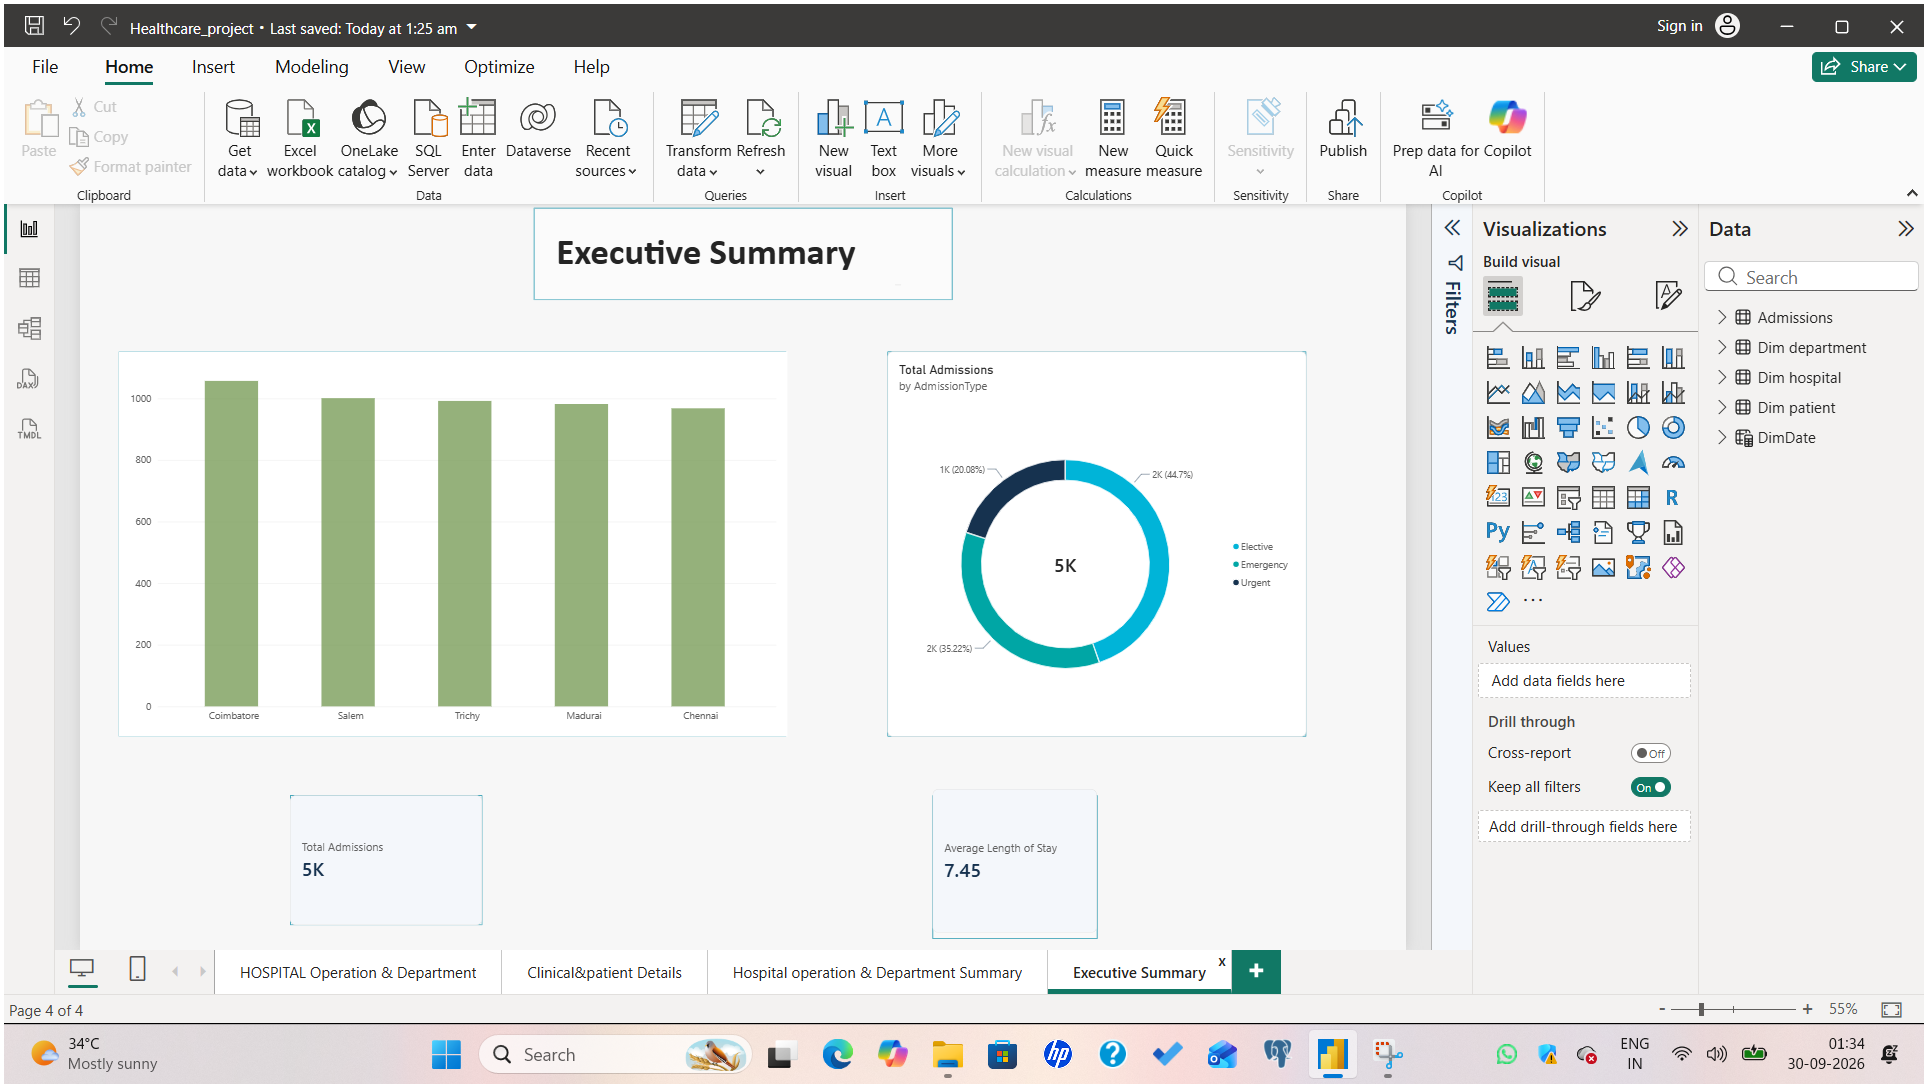

What the dashboard file says about the page in this screenshot:
{"tool":"powerbi","page":{"name":"Executive Summary","canvas":[1920,1080],"ordinal":3},"visuals":[{"type":"shape","box":[656.9,5.4,606.2,133.9],"z":0},{"type":"shape","box":[1234.2,856,238.9,208.1],"z":1000},{"type":"shape","box":[304,856,278.7,188.2],"z":2000},{"type":"shape","box":[56.1,213.5,966.4,557.4],"z":3000},{"type":"textbox","box":[10,0,280,280],"z":4000},{"type":"textbox","title":"Executive Summary","box":[689.5,36.2,499.5,81.4],"z":5000},{"type":"cardVisual","fields":{"Data":["Admissions.Total Admissions"]},"box":[304,856,278.7,188.2],"z":6000},{"type":"cardVisual","fields":{"Data":["Admissions.Average Length of Stay"]},"box":[1234.2,846.9,238.9,208.1],"z":7000},{"type":"columnChart","fields":{"Category":["Dim hospital.HospitalCity"],"Y":["Admissions.Total Admissions"]},"box":[56.1,213.5,968.2,557.4],"z":8000},{"type":"shape","box":[1169,213.5,606.2,557.4],"z":9000},{"type":"donutChart","fields":{"Category":["Admissions.AdmissionType"],"Y":["Admissions.Total Admissions"]},"box":[1169,213.5,606.2,557.4],"z":10000}]}

Visuals, with their boxes on the page's 1920x1080 design canvas (x1, y1, x2, y2). These are canvas units, not pixel positions in the 1928x1088 screenshot, which may show the page scaled, cropped or inside an application window:
shape: l=657, t=5, r=1263, b=139
shape: l=1234, t=856, r=1473, b=1064
shape: l=304, t=856, r=583, b=1044
shape: l=56, t=214, r=1022, b=771
textbox: l=10, t=0, r=290, b=280
"Executive Summary" textbox: l=690, t=36, r=1189, b=118
cardVisual - Admissions.Total Admissions: l=304, t=856, r=583, b=1044
cardVisual - Admissions.Average Length of Stay: l=1234, t=847, r=1473, b=1055
columnChart - Dim hospital.HospitalCity x Admissions.Total Admissions: l=56, t=214, r=1024, b=771
shape: l=1169, t=214, r=1775, b=771
donutChart - Admissions.AdmissionType x Admissions.Total Admissions: l=1169, t=214, r=1775, b=771
